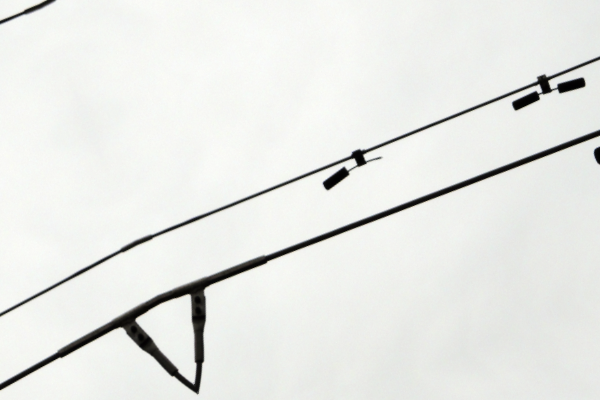damper: (510, 70, 587, 111)
damper_defect: (319, 147, 385, 192)
